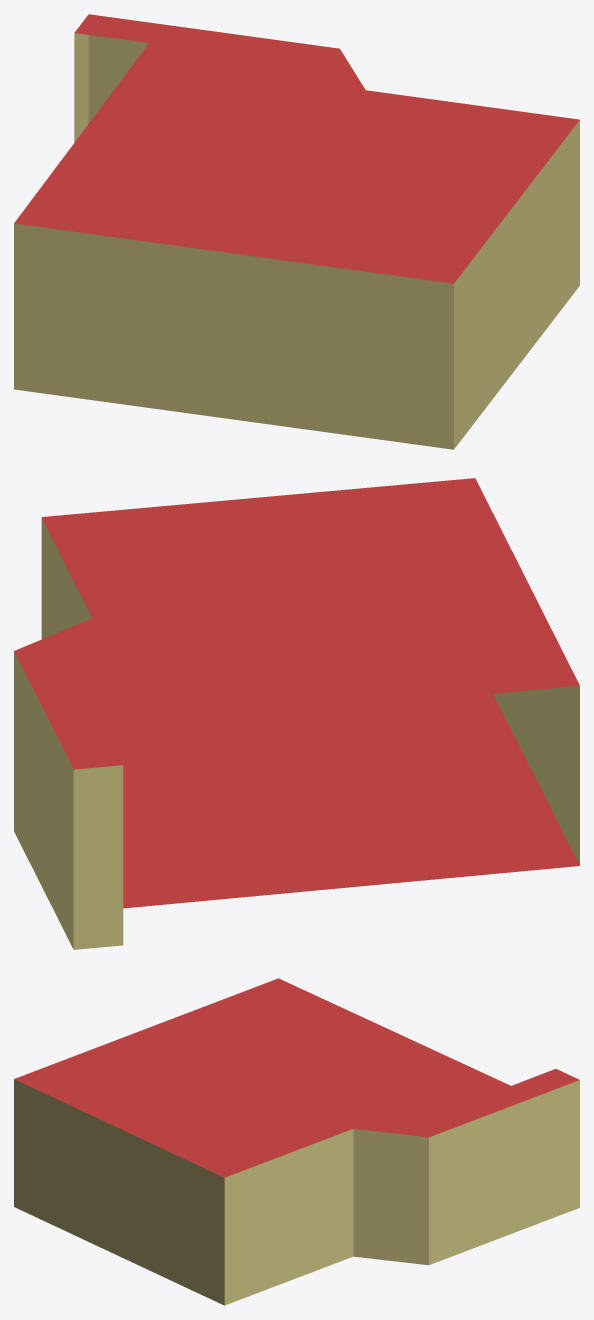
3 views of the same model, one above another, from view 1: azimuth 30°, elevation 25°; view 2: azimuth 150°, elevation 25°; view 3: azimuth 270°, elevation 25° (orthographic). The views are drawn at different scales.
Visible parts, largest first — view 1: group_4, group_3; view 2: group_3, group_5, group_4; view 3: group_4, group_3.
Boxes of the visible parts, box(x1,y1,x2,y2) form: group_4: box(14, 33, 579, 449); group_3: box(14, 14, 579, 283); group_3: box(14, 478, 579, 769); group_5: box(105, 694, 579, 908); group_4: box(14, 518, 579, 949); group_4: box(14, 1079, 579, 1305); group_3: box(14, 978, 579, 1177).
Bounding box in the file's own units: 15.61 × 18.72 × 4.67.
